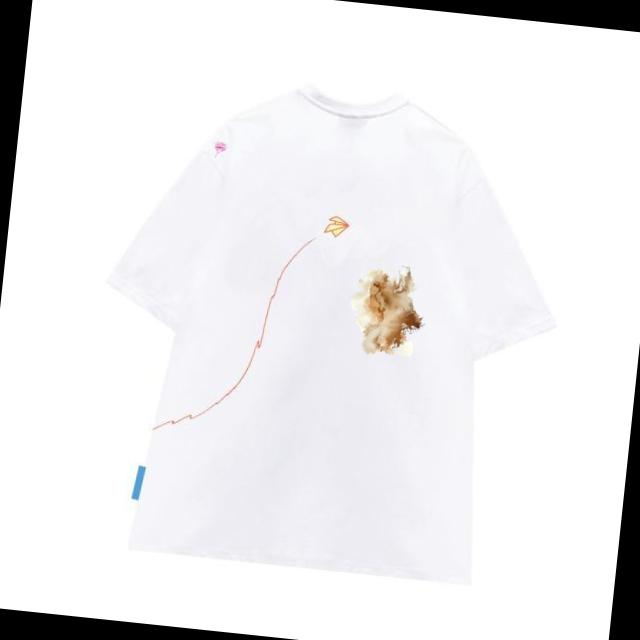stain: (352, 265, 424, 354), (211, 139, 226, 162)
